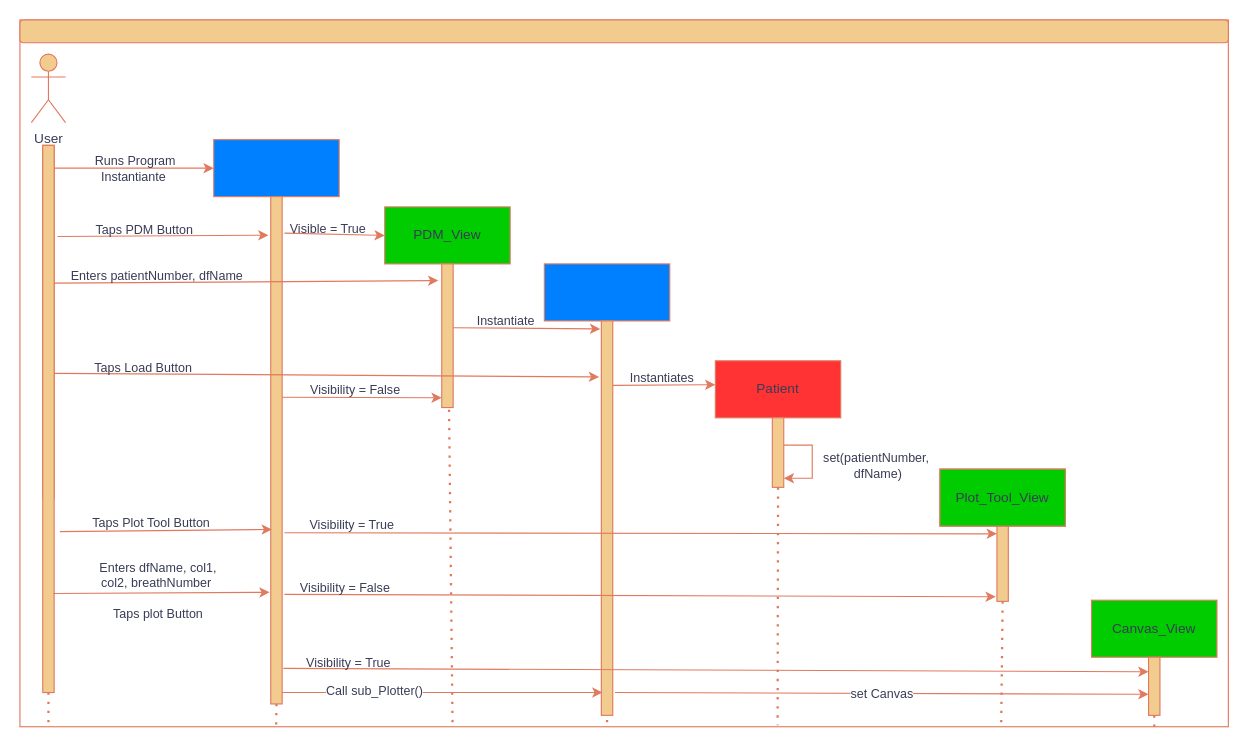
Some shapes in this 1248 by 750 pixel diagram are drawn without their labels. The shapes that lost their labels are listed below. From the top down, each one's centre as x and y in pixels, then its label:
At (623,31): "Load and plot patient data".
At (276,168): "PDM_GUI".
At (606,292): "PatientDataManager".
